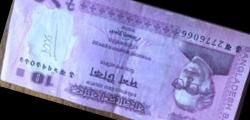10 taka: (15, 0, 234, 120)
